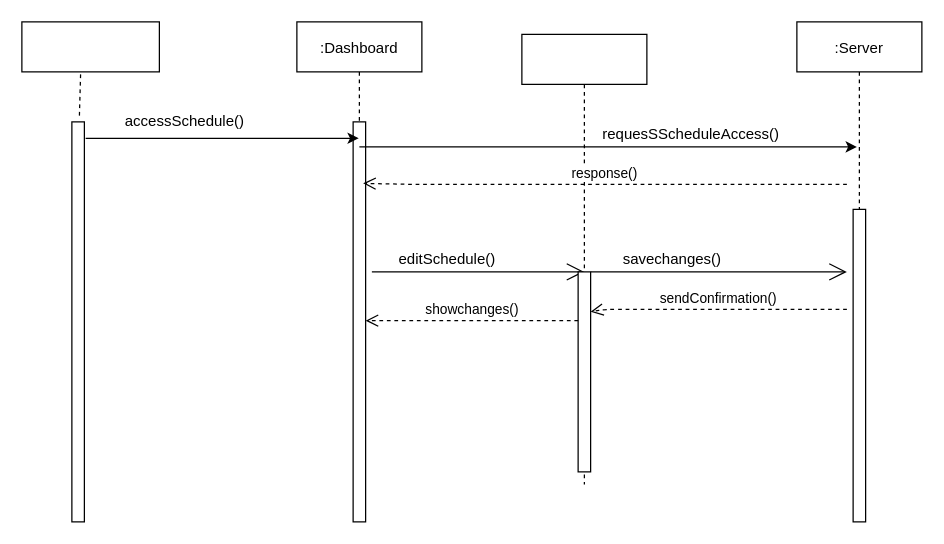
Image size: 944x544. Some labels were removed from this diagram. The shapes that lost their labels are listed below. From the top down, each one's centre as x and y in pixels, then its label:
the point at 90,46: :Customer Page
the point at 584,258: :Schedule
